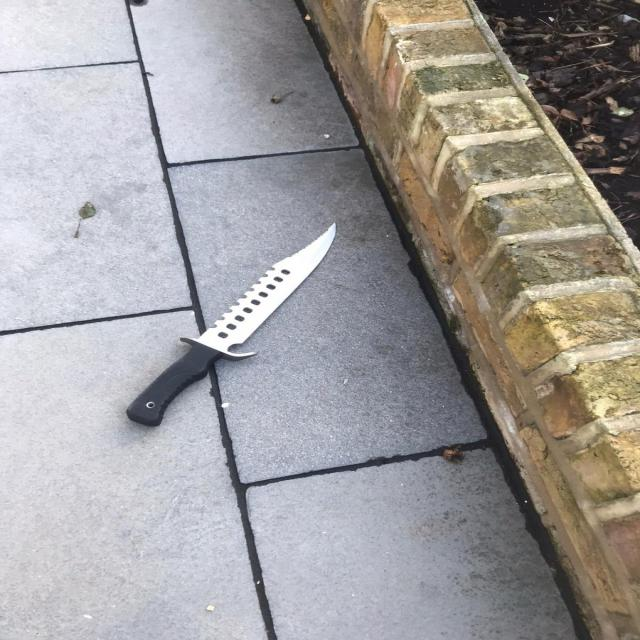Sharp-Object: (122, 221, 337, 427)
